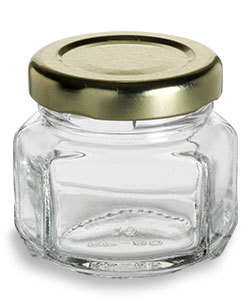Rec_Glass: (12, 34, 242, 277)
